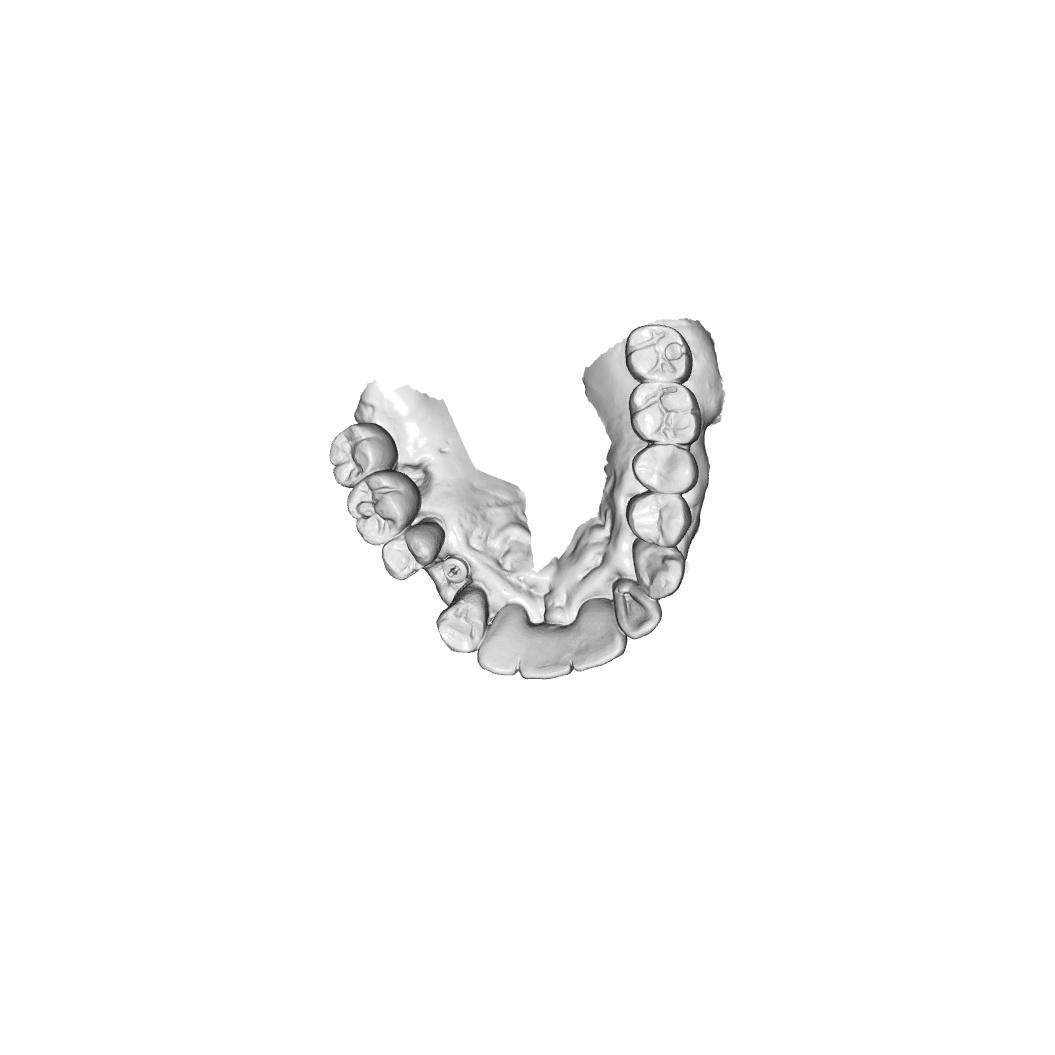canine: (435, 585, 490, 655), (632, 536, 687, 600)
implant_minus: (441, 554, 470, 585)
incisor: (572, 597, 628, 673), (475, 603, 523, 676), (519, 623, 574, 682), (612, 578, 663, 640)
molar: (346, 468, 422, 547), (328, 422, 399, 489), (628, 382, 702, 446), (625, 324, 693, 384)
premolar: (381, 520, 446, 582), (624, 491, 692, 548), (631, 443, 699, 495)
